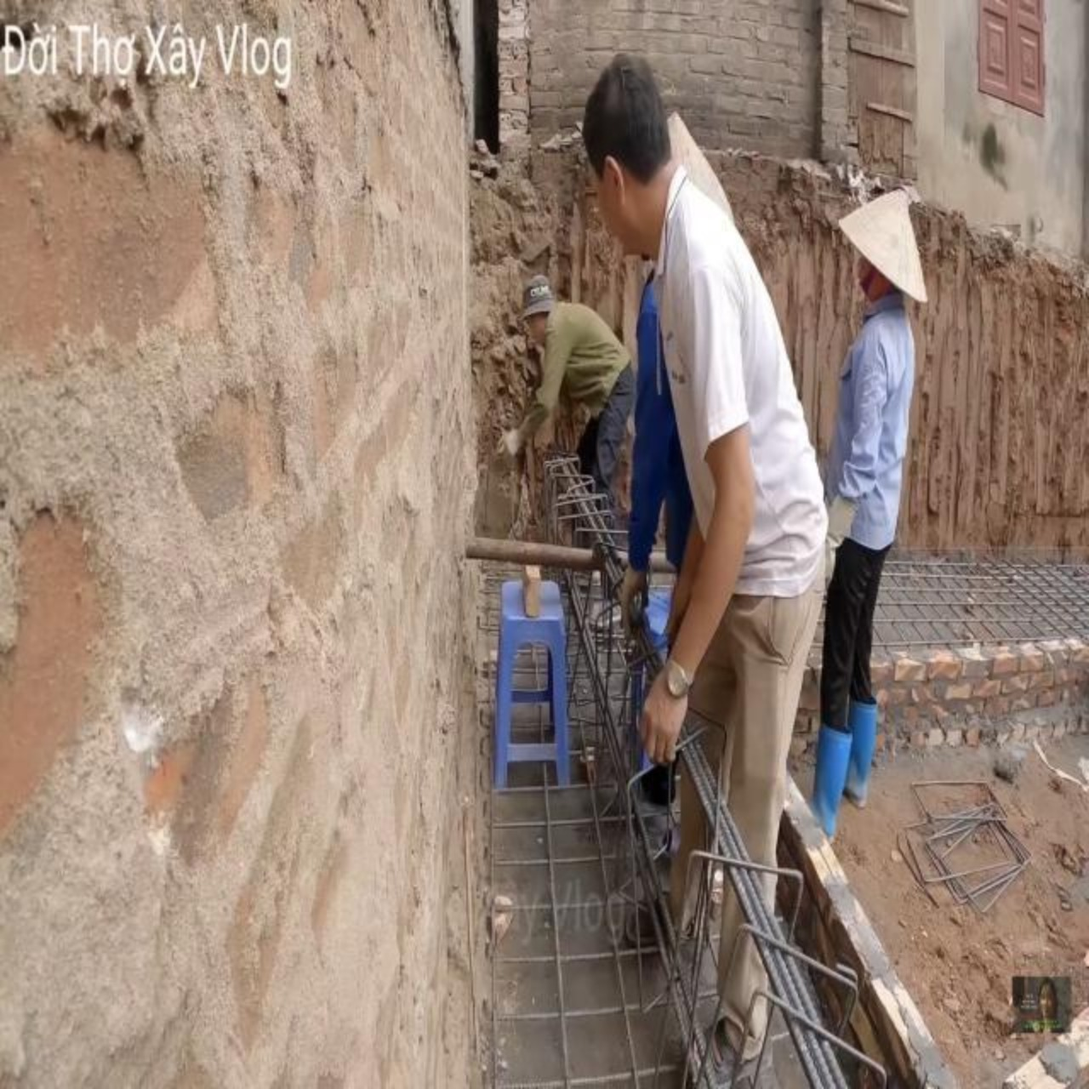no_helmet: (581, 54, 668, 252), (841, 187, 928, 310), (521, 272, 555, 354)
no_vest: (651, 197, 826, 593), (627, 258, 704, 573), (828, 308, 915, 550), (516, 301, 634, 441)
person: (581, 54, 828, 1089), (802, 185, 927, 843), (630, 107, 759, 659), (499, 272, 635, 630)
